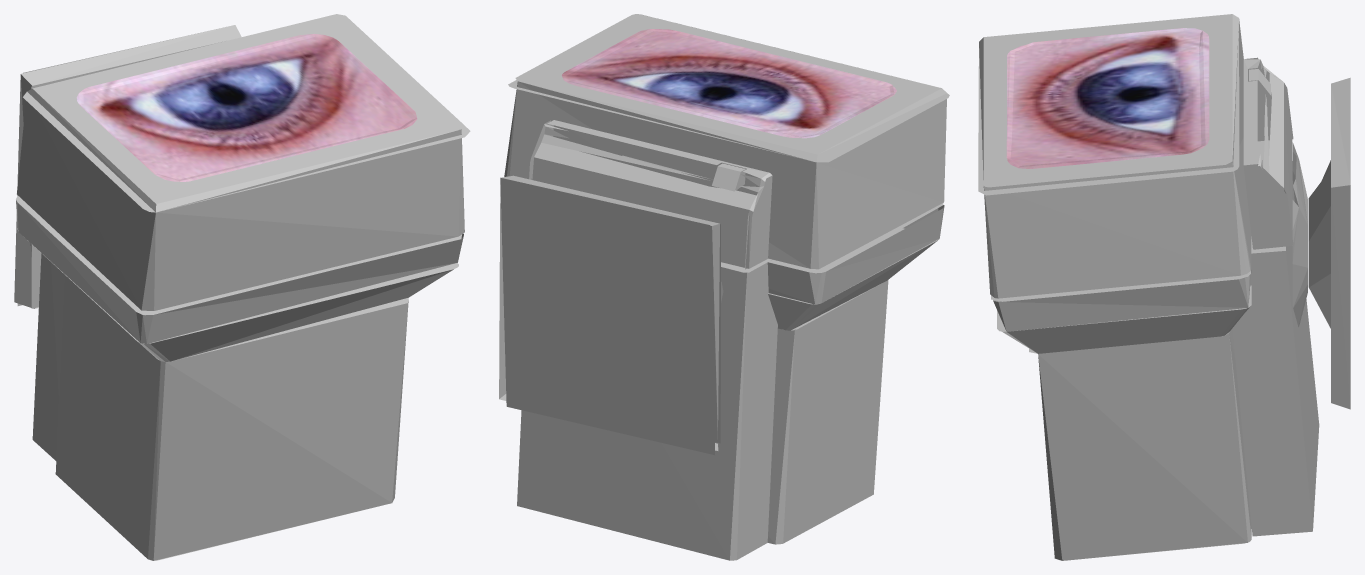
The model's file is computermonitor401_wtf.obj.
The picture shows the model from 3 angles, left to right: view 1: azimuth 30°, elevation 25°; view 2: azimuth 150°, elevation 25°; view 3: azimuth 270°, elevation 25°; orthographic projection.
Visible parts, largest first — view 1: group4, group3, group2; view 2: group4, group2, group3; view 3: group4, group3, group2.
Boxes of the visible parts, x1,y1,x2,y2 form: group4: (16, 14, 470, 560); group3: (76, 34, 417, 181); group2: (14, 25, 241, 308); group4: (504, 14, 949, 560); group2: (499, 175, 723, 455); group3: (562, 29, 896, 138); group4: (978, 14, 1319, 560); group3: (1006, 28, 1209, 169); group2: (1292, 77, 1350, 409).
Size of the model in its own units: 543 by 660 by 539.
